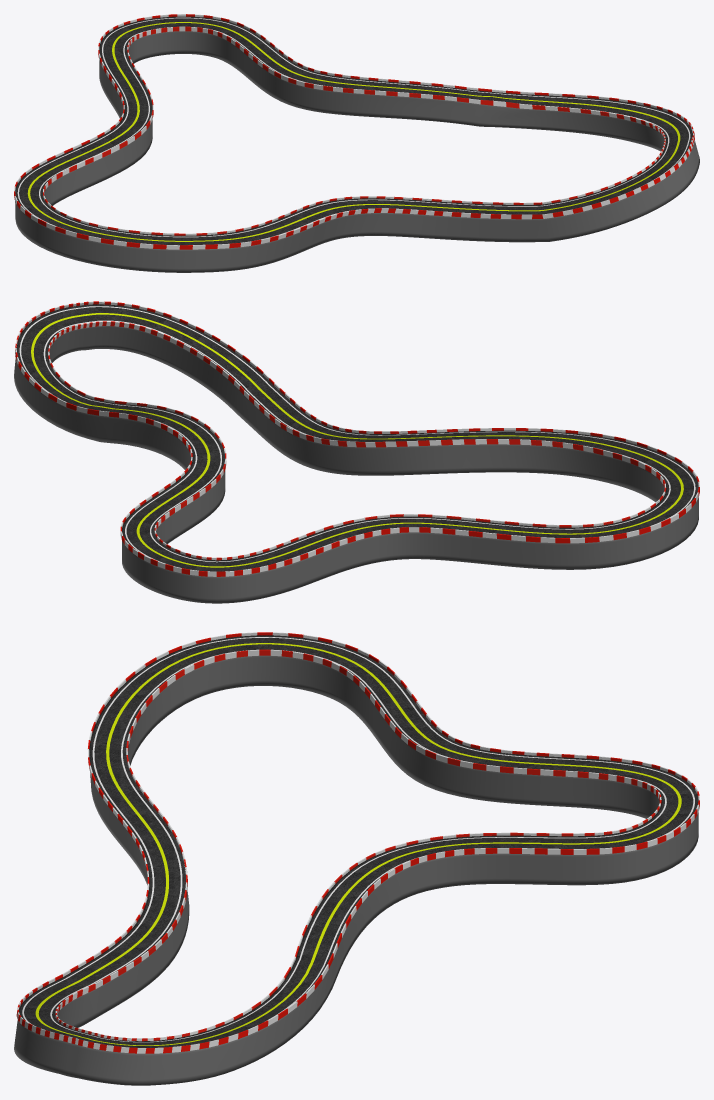
File: curlywurly_siland.fbx
3 views of the same model, one above another, from view 1: azimuth 30°, elevation 25°; view 2: azimuth 150°, elevation 25°; view 3: azimuth 270°, elevation 25° (orthographic). The views are drawn at different scales.
Parts seen in each view (by area): view 1: NurbsCurve, NurbsCurve.001, NurbsCurve.002; view 2: NurbsCurve, NurbsCurve.001, NurbsCurve.002; view 3: NurbsCurve, NurbsCurve.001, NurbsCurve.002.
Part boxes in pixels (left/top/right/bottom): NurbsCurve: left=15, top=16, right=699, bottom=272; NurbsCurve.001: left=14, top=14, right=694, bottom=249; NurbsCurve.002: left=43, top=26, right=665, bottom=235; NurbsCurve: left=14, top=304, right=698, bottom=603; NurbsCurve.001: left=15, top=301, right=699, bottom=576; NurbsCurve.002: left=48, top=321, right=666, bottom=560; NurbsCurve: left=14, top=635, right=698, bottom=1085; NurbsCurve.001: left=16, top=632, right=699, bottom=1053; NurbsCurve.002: left=55, top=649, right=661, bottom=1041.
Size of the model in its own units: 7029 by 943 by 5170.
